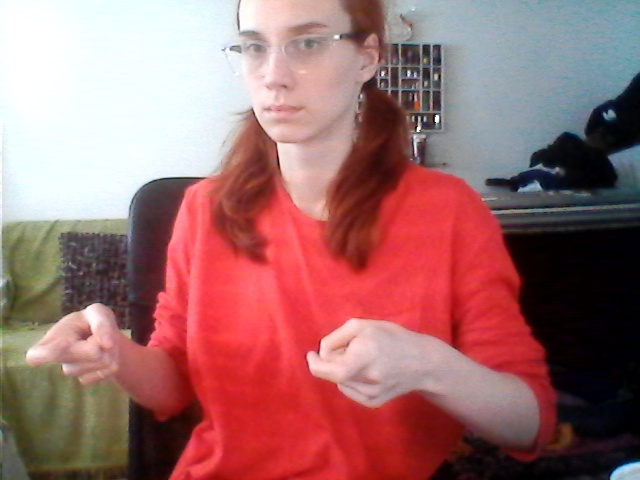davat: (21, 295, 432, 422)
